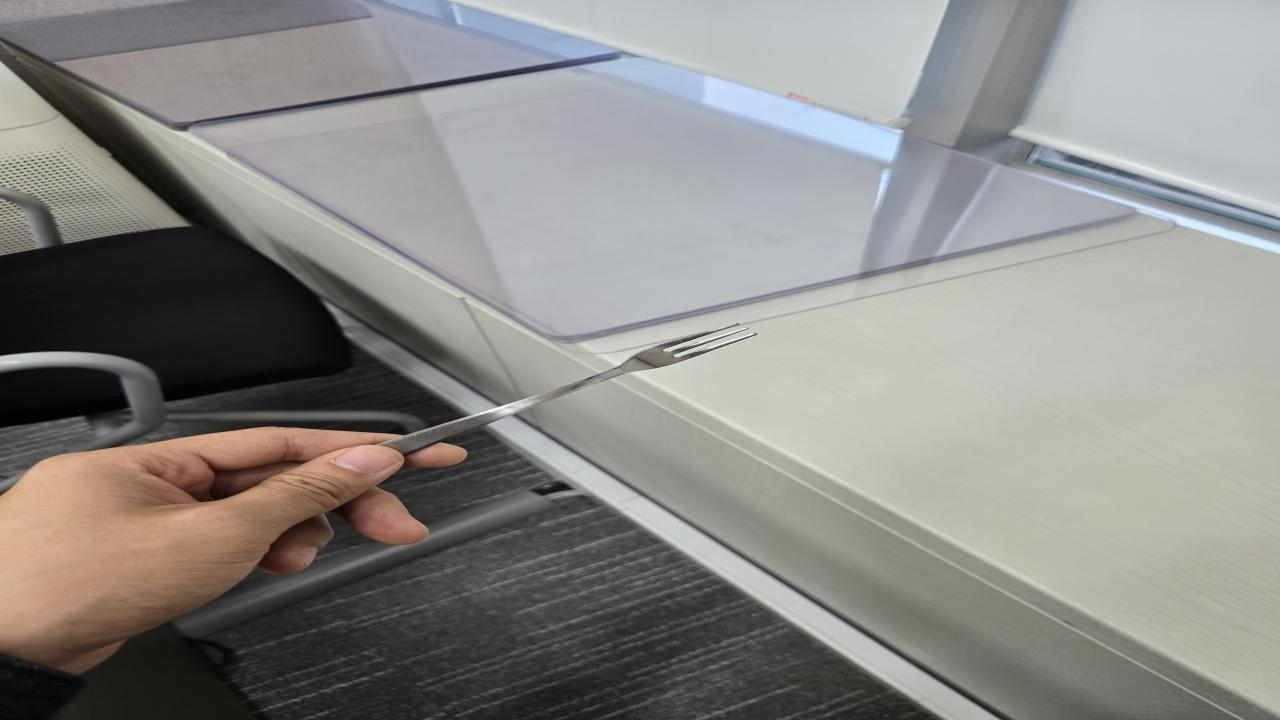fork: (383, 323, 758, 455)
